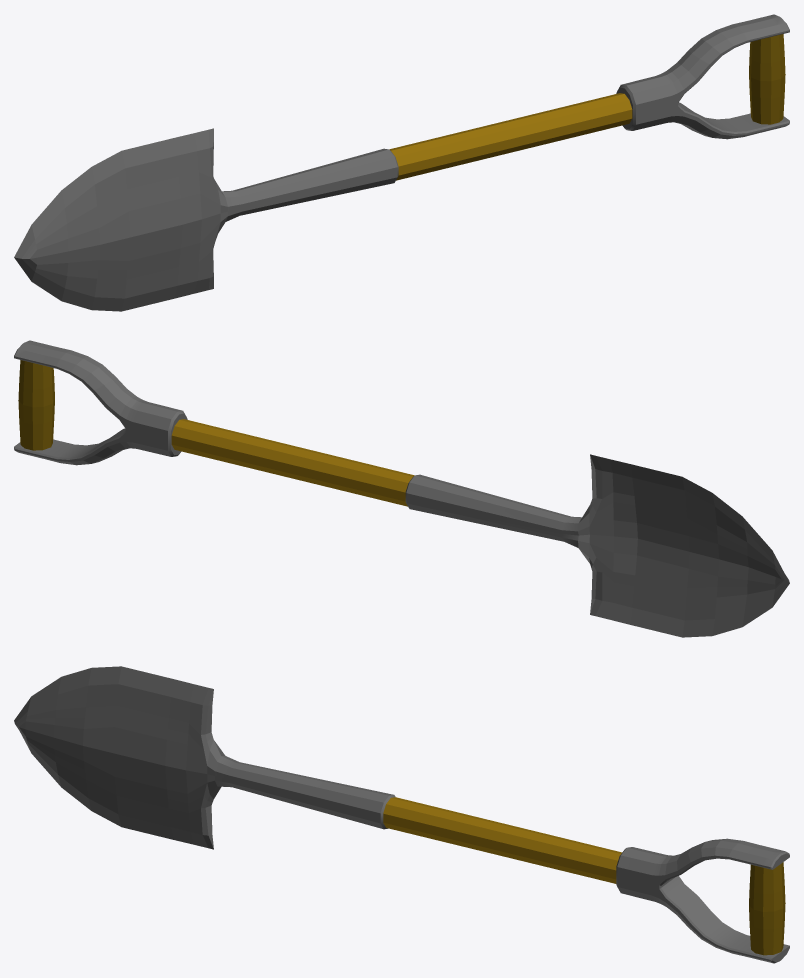
Rendered from PalaRota.fbx.
3 views of the same model, one above another, from view 1: azimuth 30°, elevation 25°; view 2: azimuth 150°, elevation 25°; view 3: azimuth 330°, elevation 25° (orthographic).
Parts seen in each view (by area): view 1: polySurface4, pCylinder4, pCylinder1; view 2: polySurface4, pCylinder4, pCylinder1; view 3: polySurface4, pCylinder4, pCylinder1.
Boxes of the visible parts, box(x1,y1,x2,y2) form: polySurface4: box(14, 128, 398, 311); pCylinder4: box(616, 14, 789, 139); pCylinder1: box(389, 93, 632, 180); polySurface4: box(405, 454, 789, 637); pCylinder4: box(14, 340, 187, 465); pCylinder1: box(171, 419, 414, 506); polySurface4: box(14, 666, 395, 849); pCylinder4: box(616, 838, 789, 963); pCylinder1: box(383, 797, 621, 883).
Size of the model in its own units: 75.32 by 15.05 by 3.19.
